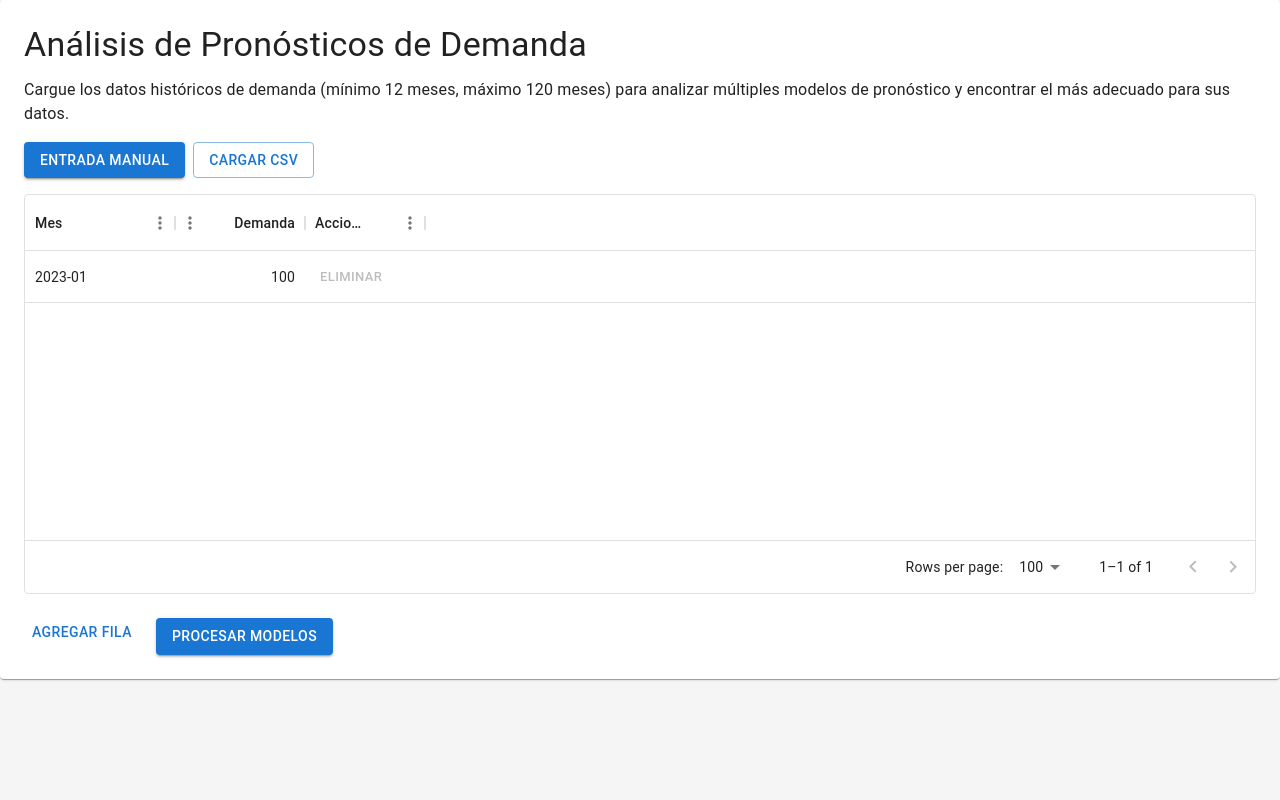
Test case: DataInput Component › CSV File Upload Mode › displays file input in CSV mode
The image size is (1280, 800).
Click the button "Cargar CSV". click: [254, 160]
box: [193, 142, 314, 178]
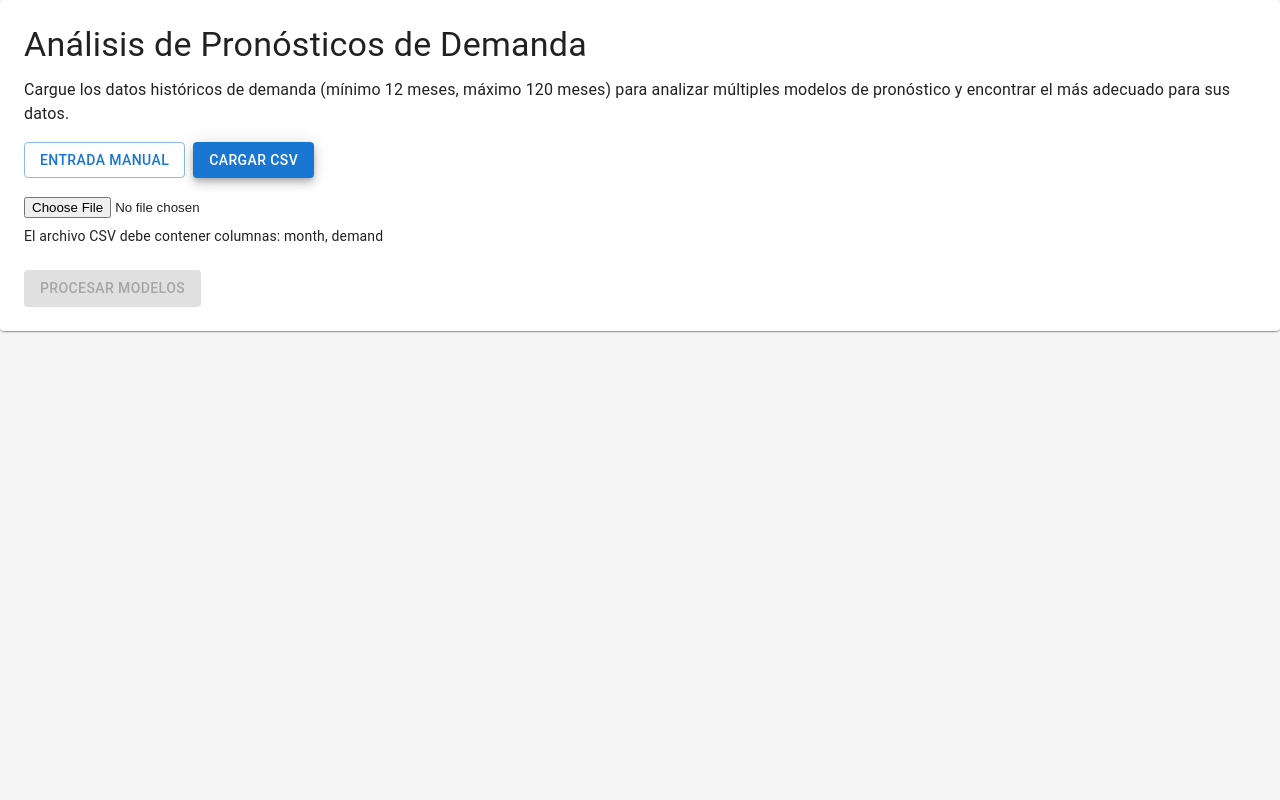
Result: the file field is shown at [24, 197, 277, 218]
